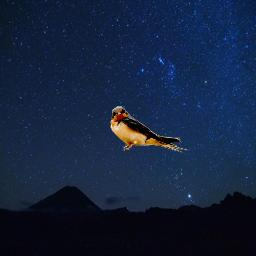Swallow: (109, 106, 189, 155)
